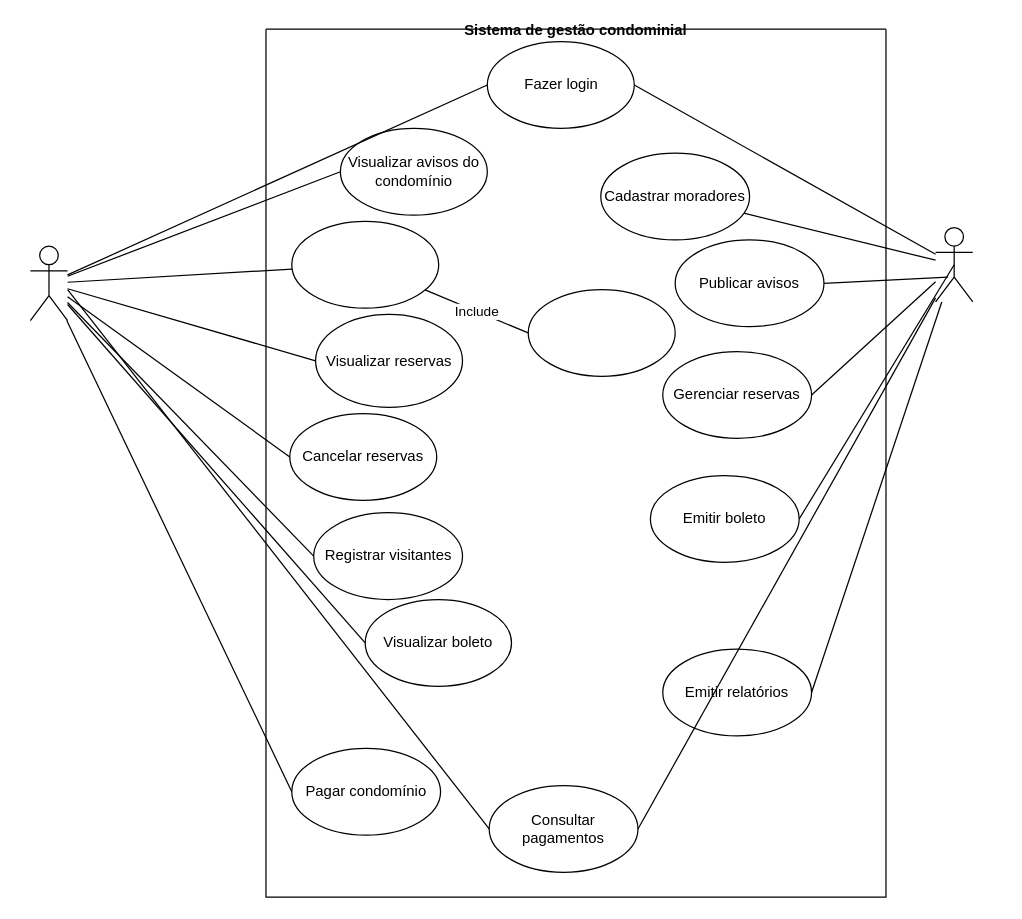
This 1022x919 diagram has some shape labels left out. Here are the shapes that lost their labels. From the top down, the centre of each, then its label:
At point (48, 283): "Morador".
At point (365, 264): "Reservar áreas comuns".
At point (953, 264): "Administrador".
At point (601, 332): "Verificar disponibilidade".
